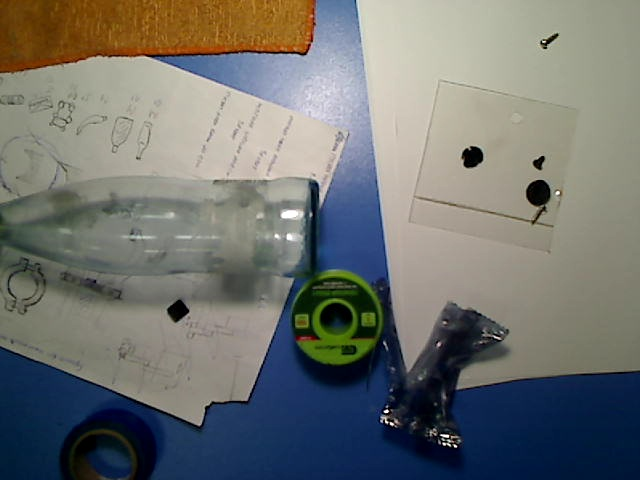bottle: (1, 174, 318, 277)
